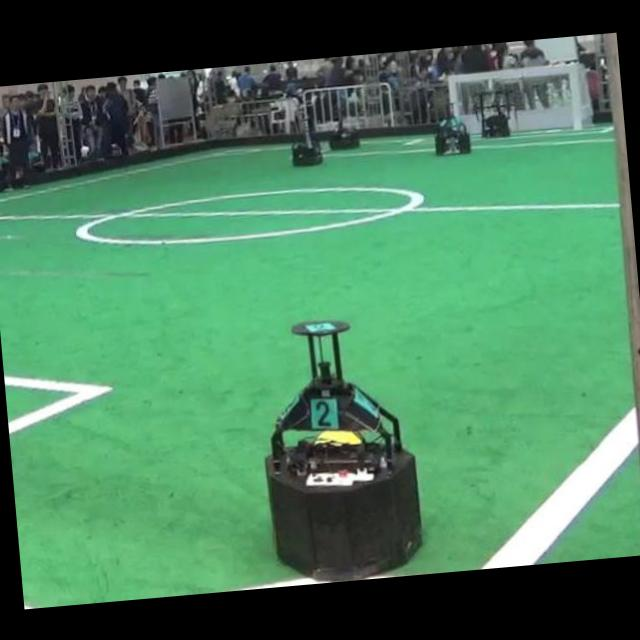goal: (566, 60, 581, 126)
robot: (265, 319, 420, 578), (291, 119, 322, 164), (434, 116, 470, 153), (480, 90, 510, 134), (328, 121, 357, 147)
